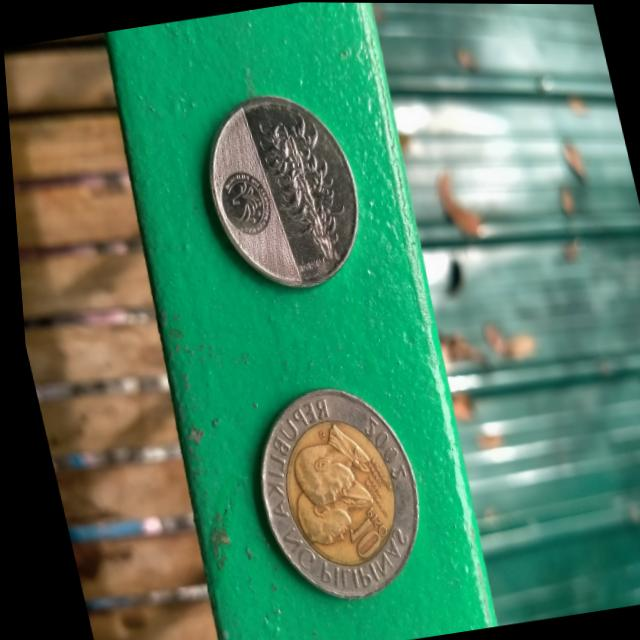10_Old_Front: (324, 494, 402, 569)
5_New_Back: (244, 103, 353, 259)
